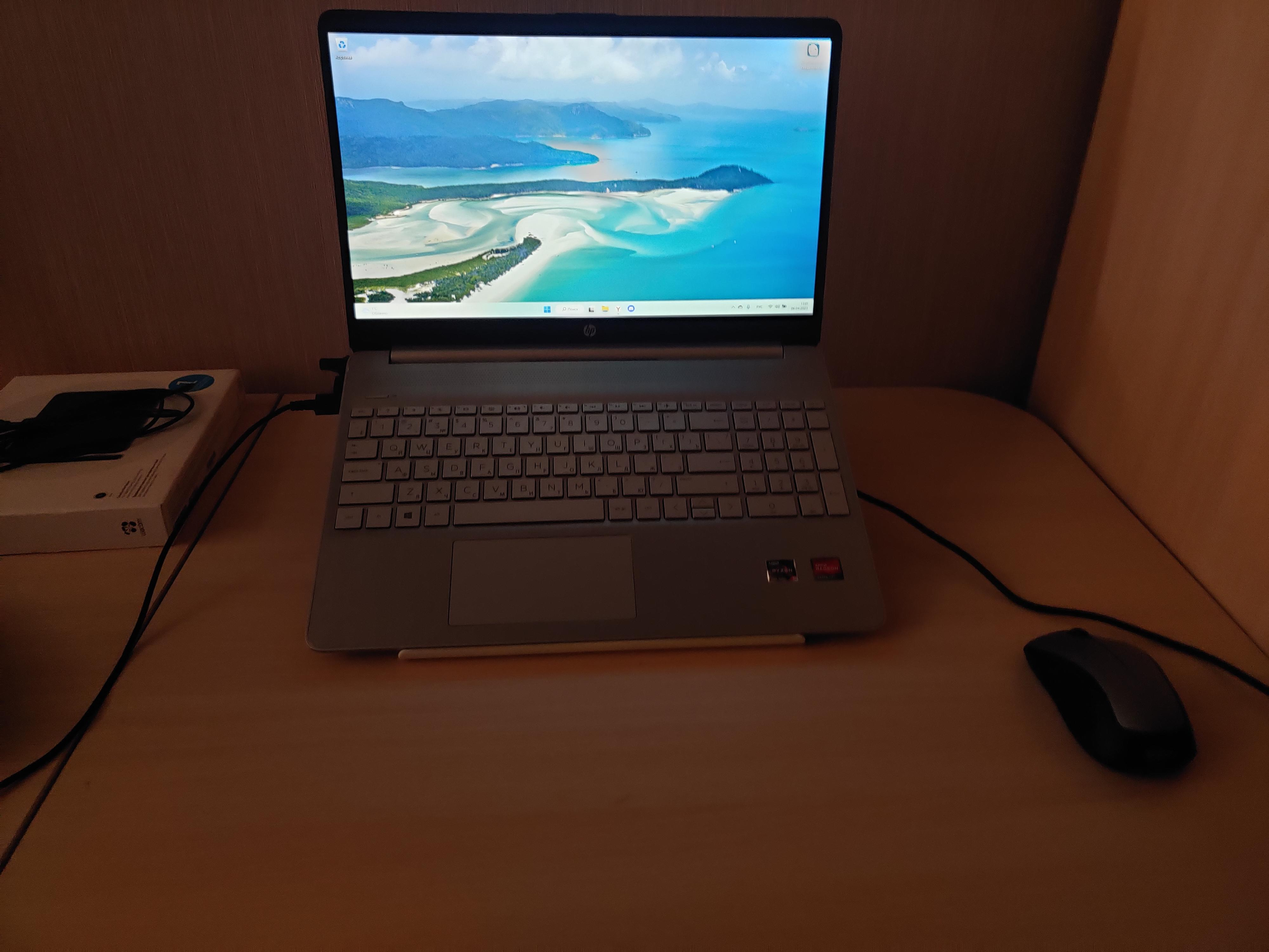monitor: (312, 11, 845, 355)
